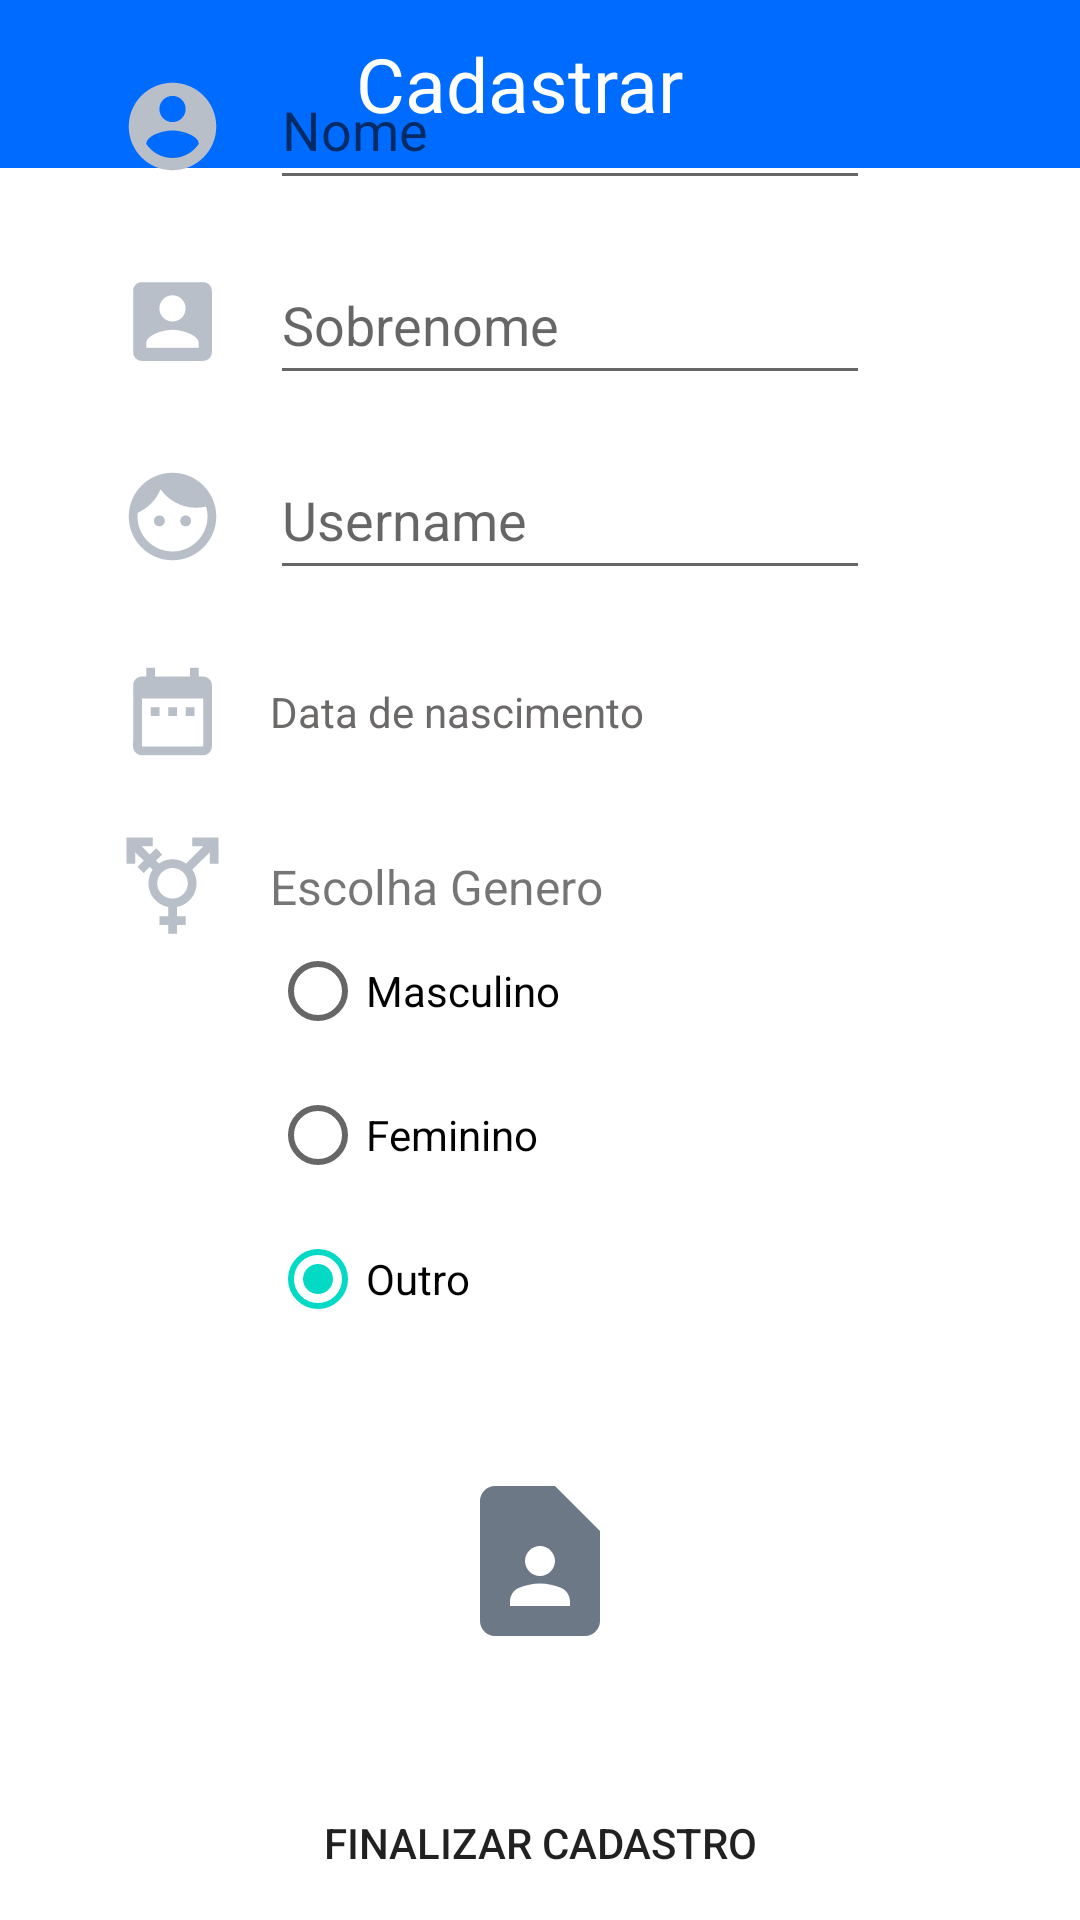

Screen size 1080x1920. Icon name, then its box in pixels as (x1, y1, x2, y2):
account: (120, 82, 225, 179), (133, 282, 212, 361)
contact: (480, 1486, 600, 1636)
date: (133, 668, 212, 755)
face: (129, 473, 216, 560)
gender: (126, 837, 219, 934)
